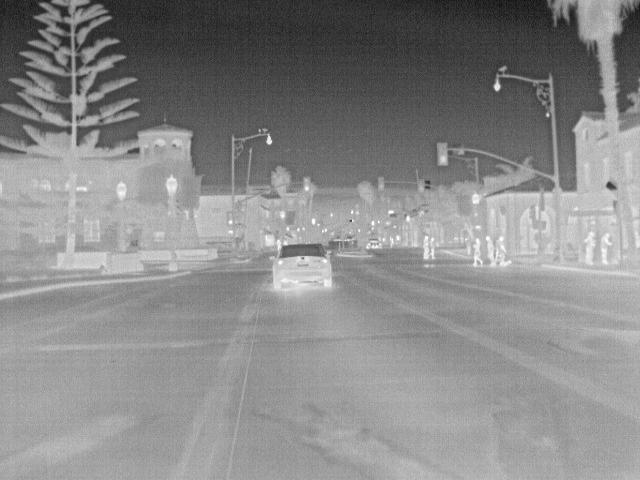car: (271, 243, 335, 292)
person: (580, 229, 600, 263), (470, 236, 488, 267), (599, 230, 613, 264), (496, 234, 510, 266), (484, 236, 497, 266), (420, 236, 432, 262)
